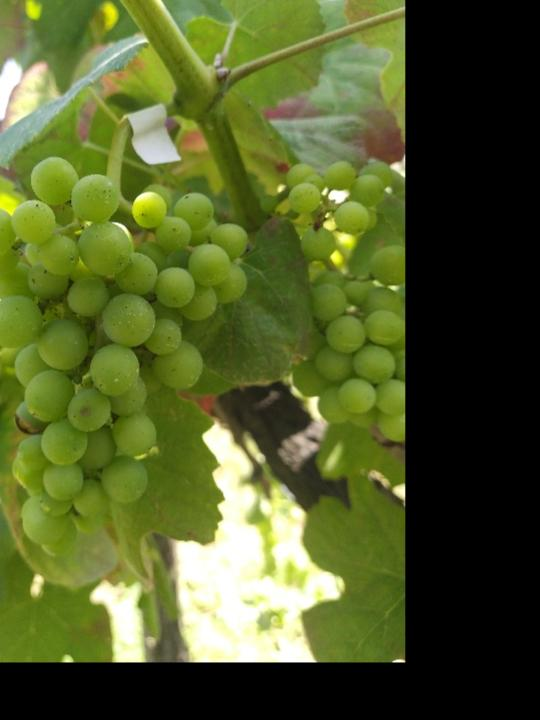grape: (0, 151, 248, 557), (0, 296, 16, 564)
